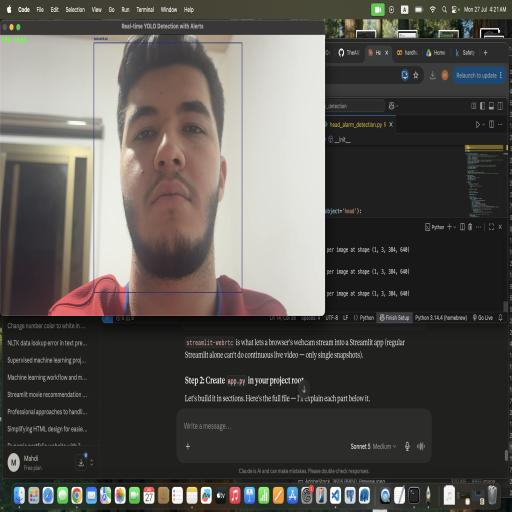head: (109, 39, 234, 279)
